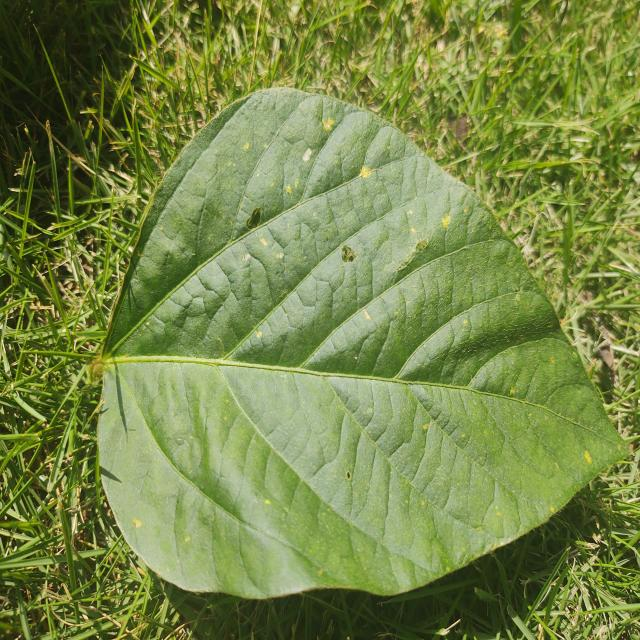Soybean: (94, 88, 633, 640)
downey_mildew: (319, 269, 425, 355)
